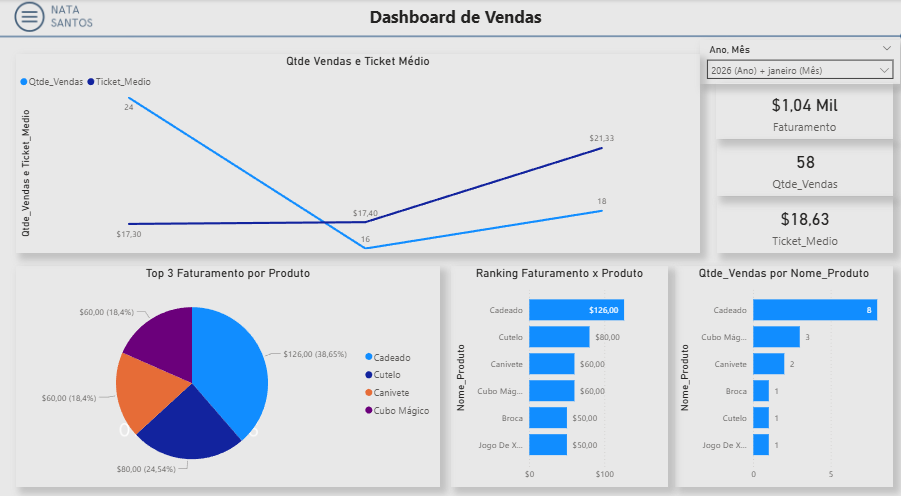

The page's visual inventory and layout, read from the dashboard file:
{"tool":"powerbi","page":{"name":"Página 1","canvas":[1280,720],"ordinal":0},"visuals":[{"type":"card","fields":{"Values":["#Medidas.Total_Vendas"]},"box":[1014.2,119.2,251.4,80.4],"z":0},{"type":"card","fields":{"Values":["#Medidas.QTDE_Vendido"]},"box":[1015.7,199.7,250,80.4],"z":1000},{"type":"card","fields":{"Values":["#Medidas.Ticket_Medio"]},"box":[1015.7,280.1,250,80.4],"z":2000},{"type":"lineChart","title":"Qtde Vendas e Ticket Médio","fields":{"Category":["Fato_Vendas.Data.Variation.Hierarquia de datas.Mês","Fato_Vendas.Data.Variation.Hierarquia de datas.Dia"],"Y":["#Medidas.Qtde_Vendas","#Medidas.Ticket_Medio"]},"box":[22.7,78,969.4,282],"z":3000},{"type":"clusteredBarChart","title":"Ranking Faturamento x Produto","fields":{"Category":["dim_products.Nome_Produto"],"Y":["#Medidas.Faturamento"]},"box":[639.2,378.4,307.6,313.2],"z":4000},{"type":"textbox","box":[518.7,2.8,275,42.5],"z":5000},{"type":"pieChart","title":"Top 3 Faturamento por Produto","fields":{"Y":["#Medidas.Faturamento"],"Category":["dim_products.Nome_Produto"]},"box":[22.7,378.4,600.9,313.2],"z":6000},{"type":"clusteredBarChart","fields":{"Category":["dim_products.Nome_Produto"],"Y":["#Medidas.Qtde_Vendas"]},"box":[956.7,378.4,309,313.2],"z":7000},{"type":"slicer","fields":{"Values":["Fato_Vendas.Data.Variation.Hierarquia de datas.Ano","Fato_Vendas.Data.Variation.Hierarquia de datas.Mês"]},"box":[992.7,57.5,284.4,61.8],"z":8000}]}

Visuals, with their boxes in screenshot pixels (x1, y1, x2, y2), scaled from the page's 1280x720 canvas onto the 901x496 screenshot:
card - #Medidas.Total_Vendas: locate(714, 82, 891, 138)
card - #Medidas.QTDE_Vendido: locate(715, 138, 891, 193)
card - #Medidas.Ticket_Medio: locate(715, 193, 891, 248)
"Qtde Vendas e Ticket Médio" lineChart: locate(16, 54, 698, 248)
"Ranking Faturamento x Produto" clusteredBarChart: locate(450, 261, 666, 476)
textbox: locate(365, 2, 559, 31)
"Top 3 Faturamento por Produto" pieChart: locate(16, 261, 439, 476)
clusteredBarChart - dim_products.Nome_Produto x #Medidas.Qtde_Vendas: locate(673, 261, 891, 476)
slicer - Fato_Vendas.Data.Variation.Hierarquia de datas.Ano x Fato_Vendas.Data.Variation.Hierarquia de datas.Mês: locate(699, 40, 899, 82)
